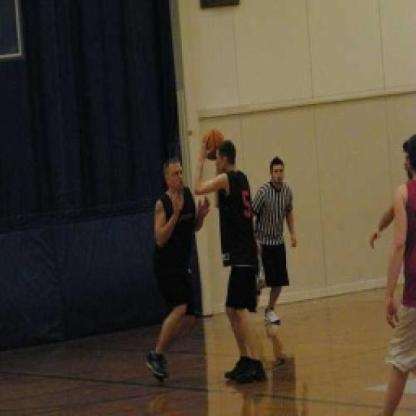basketball: (200, 130, 221, 160)
